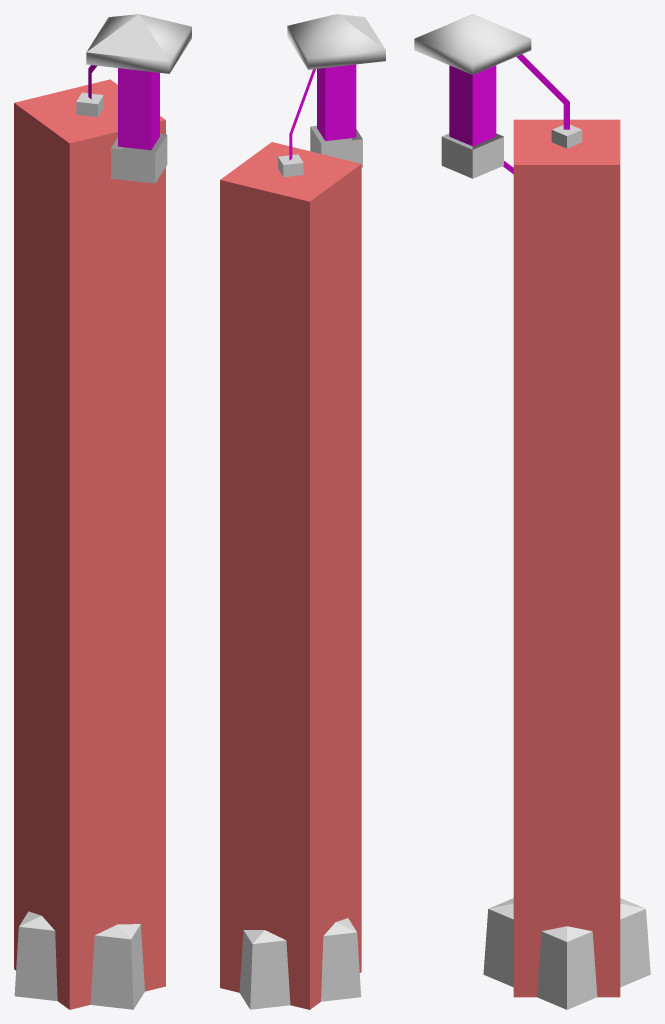
The model's file is prop_lamppost.glb.
The picture shows the model from 3 angles, left to right: view 1: azimuth 30°, elevation 25°; view 2: azimuth 150°, elevation 25°; view 3: azimuth 270°, elevation 25°; orthographic projection. The views are drawn at different scales.
Parts seen in each view (by area): view 1: brush_box.017, prop_lamppost; view 2: brush_box.017, prop_lamppost; view 3: brush_box.017, prop_lamppost.
Boxes of the visible parts, box(x1,y1,x2,y2) form: brush_box.017: box(14, 79, 165, 1009); prop_lamppost: box(14, 14, 191, 1009); brush_box.017: box(220, 142, 361, 1009); prop_lamppost: box(239, 14, 385, 1009); brush_box.017: box(513, 119, 620, 997); prop_lamppost: box(414, 14, 650, 1009).
Size of the model in its own units: 0.4962 by 3.14 by 0.7015.
